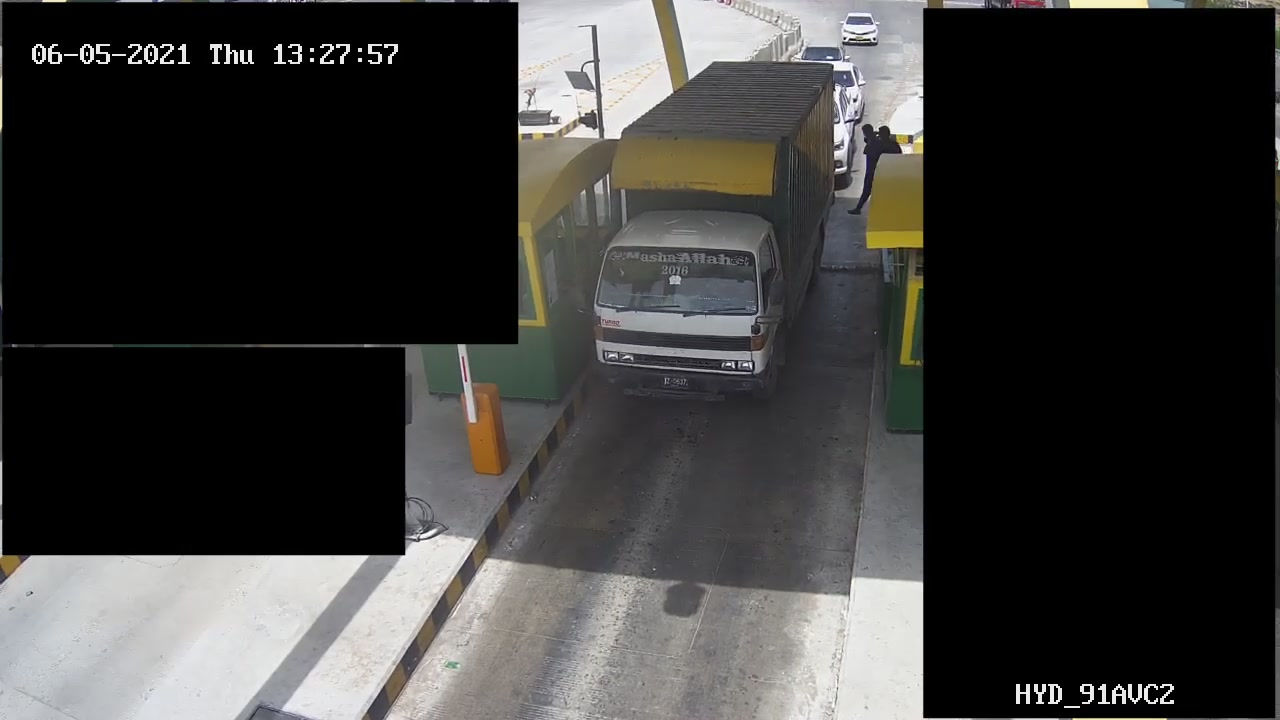F5: (567, 32, 859, 432)
